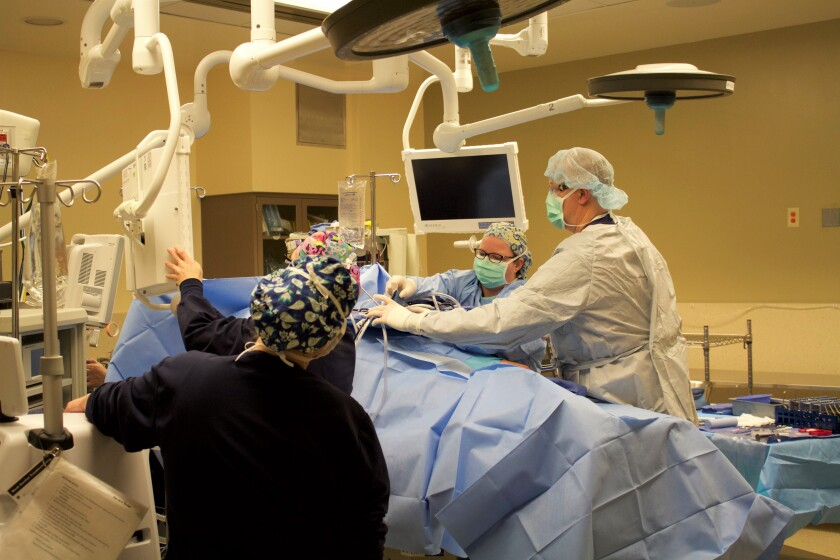bedside_monitor: (400, 146, 530, 235), (126, 151, 196, 296), (73, 238, 114, 324)
iv_pole: (1, 161, 102, 455), (1, 143, 49, 345), (337, 169, 401, 264)
staff: (64, 256, 389, 560), (366, 147, 699, 435), (162, 232, 357, 394), (384, 223, 542, 375)
surgical_instrument: (697, 396, 840, 456)
surgical_light: (321, 1, 571, 92), (585, 61, 740, 135)
utility_cart: (679, 318, 756, 393)
